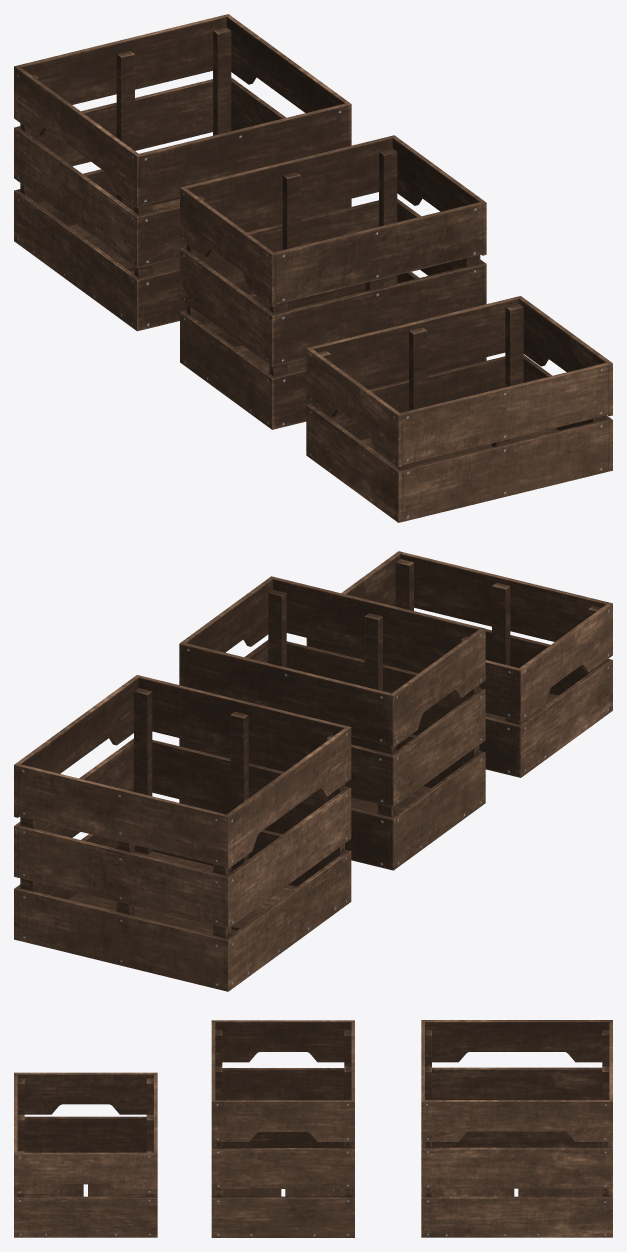
Rendered from 3D_woodencrates_3.fbx.
3 renders of one model, top to bottom at view 1: azimuth 30°, elevation 25°; view 2: azimuth 150°, elevation 25°; view 3: azimuth 270°, elevation 25°, orthographic. The views are drawn at different scales.
Visible parts, largest first — view 1: wooden-crate-3, wooden-crate-2, wooden-crate-1; view 2: wooden-crate-3, wooden-crate-2, wooden-crate-1; view 3: wooden-crate-3, wooden-crate-2, wooden-crate-1.
Part boxes in pixels (<box>): wooden-crate-3: <box>14,14,351,331</box>; wooden-crate-2: <box>180,135,486,429</box>; wooden-crate-1: <box>306,296,612,522</box>; wooden-crate-3: <box>14,675,351,991</box>; wooden-crate-2: <box>179,576,485,870</box>; wooden-crate-1: <box>306,551,612,777</box>; wooden-crate-3: <box>421,1020,612,1237</box>; wooden-crate-2: <box>211,1020,354,1237</box>; wooden-crate-1: <box>14,1072,157,1237</box>.
Size of the model in its own units: 31.09 by 24.33 by 96.31.
Materials: 1 (1 with a texture image).
